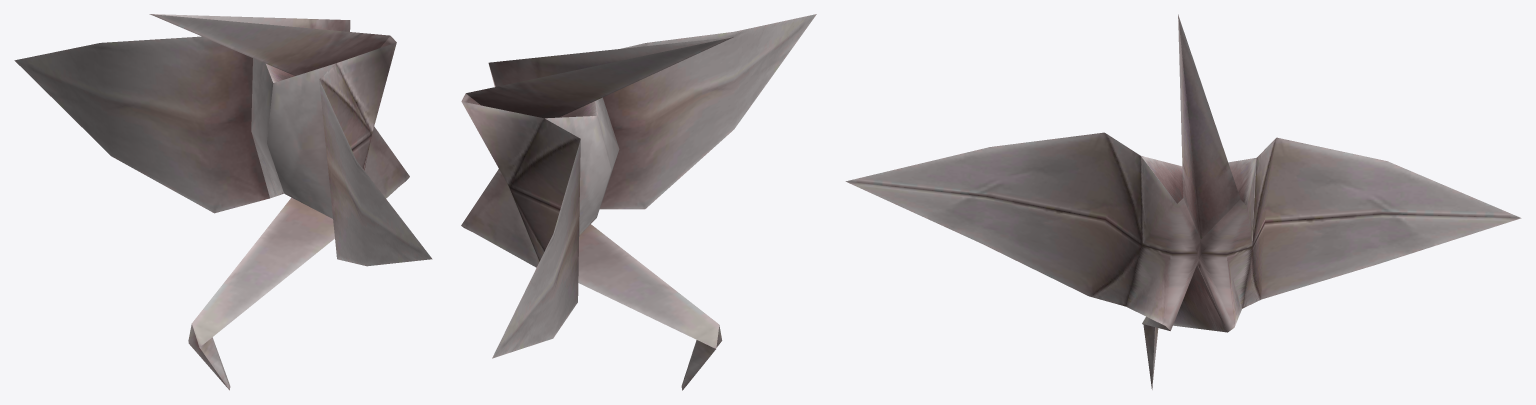
3 views of the same model, side by side, from view 1: azimuth 30°, elevation 25°; view 2: azimuth 150°, elevation 25°; view 3: azimuth 270°, elevation 25° (orthographic). The views are drawn at different scales.
Visible parts, largest first — view 1: sm_0; view 2: sm_0; view 3: sm_0.
Part boxes in pixels (x1,y1,x2,y2): sm_0: (14, 14, 432, 390); sm_0: (461, 14, 816, 390); sm_0: (845, 14, 1521, 389).
Bounding box in the file's own units: 58.91 × 84.75 × 150.
